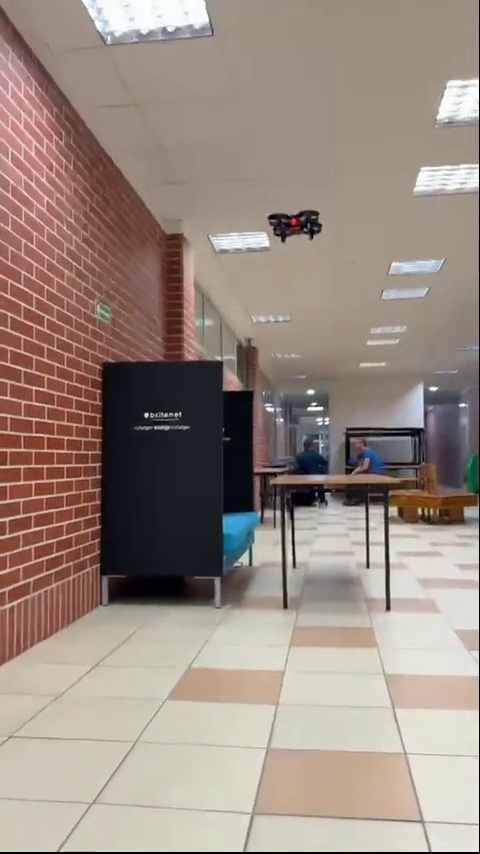drone: (264, 210, 321, 244)
no vest: (294, 431, 336, 479), (343, 429, 377, 474)
